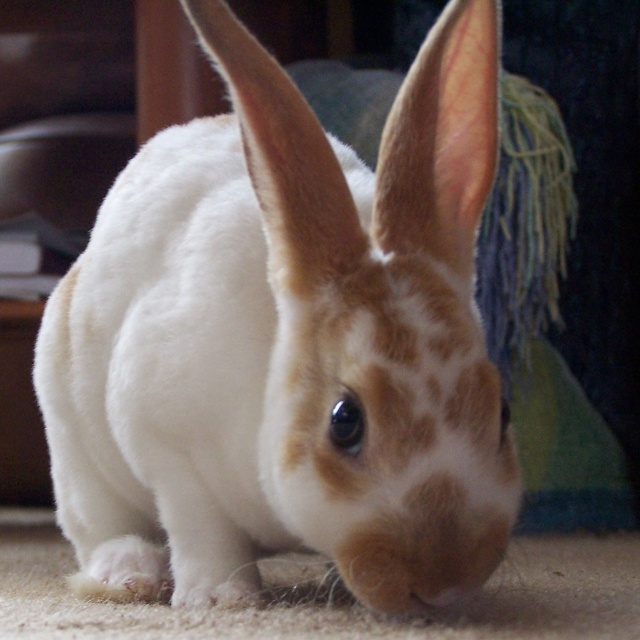Rabbit: (27, 0, 527, 622)
